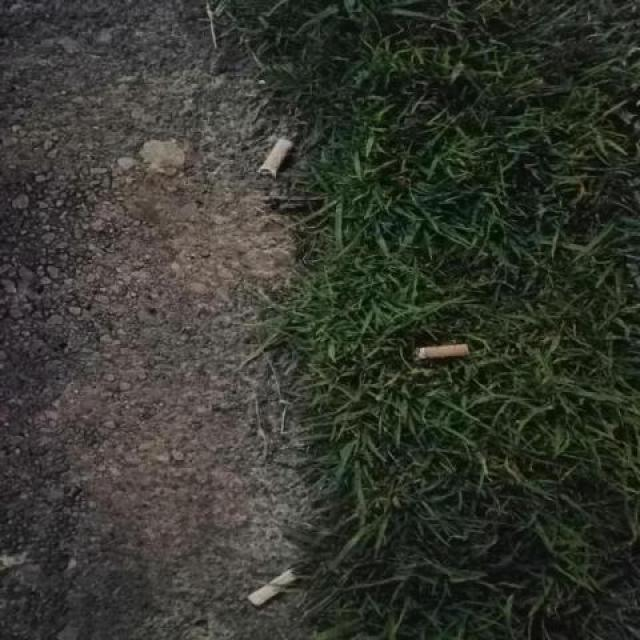non-organic waste: (242, 565, 306, 615), (255, 129, 296, 186), (408, 339, 476, 365)
